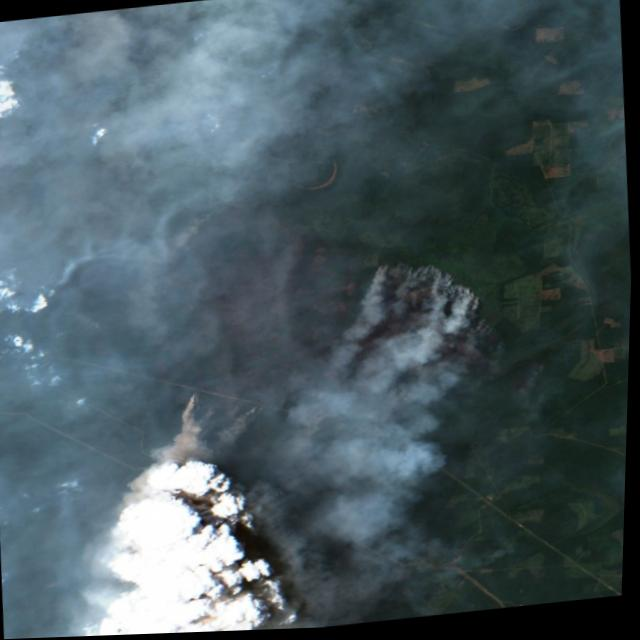fire: (355, 249, 497, 348), (170, 380, 281, 484), (173, 206, 226, 240)
